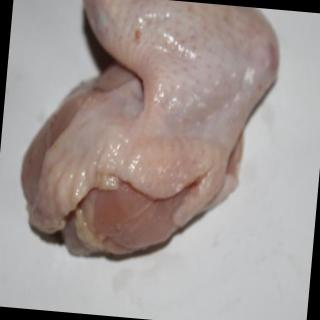Ayam: (15, 1, 285, 271)
